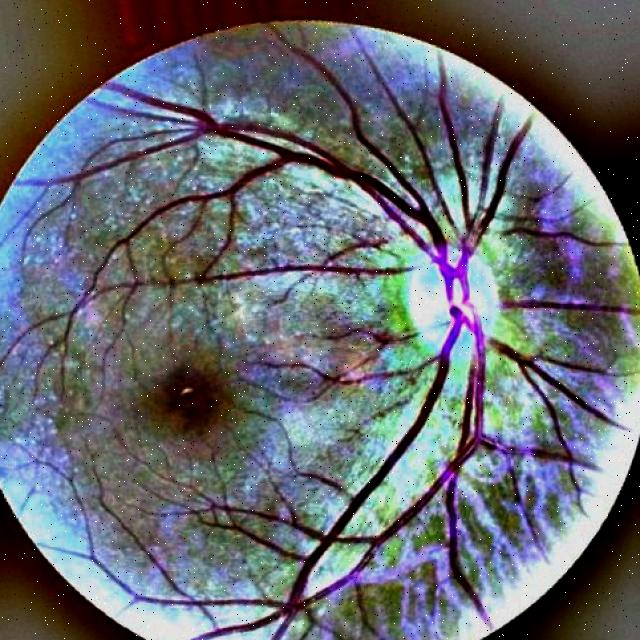Macula: (130, 361, 231, 448)
Nerves: (52, 85, 516, 334), (253, 312, 503, 630)
Optic Disk: (394, 239, 526, 387)
